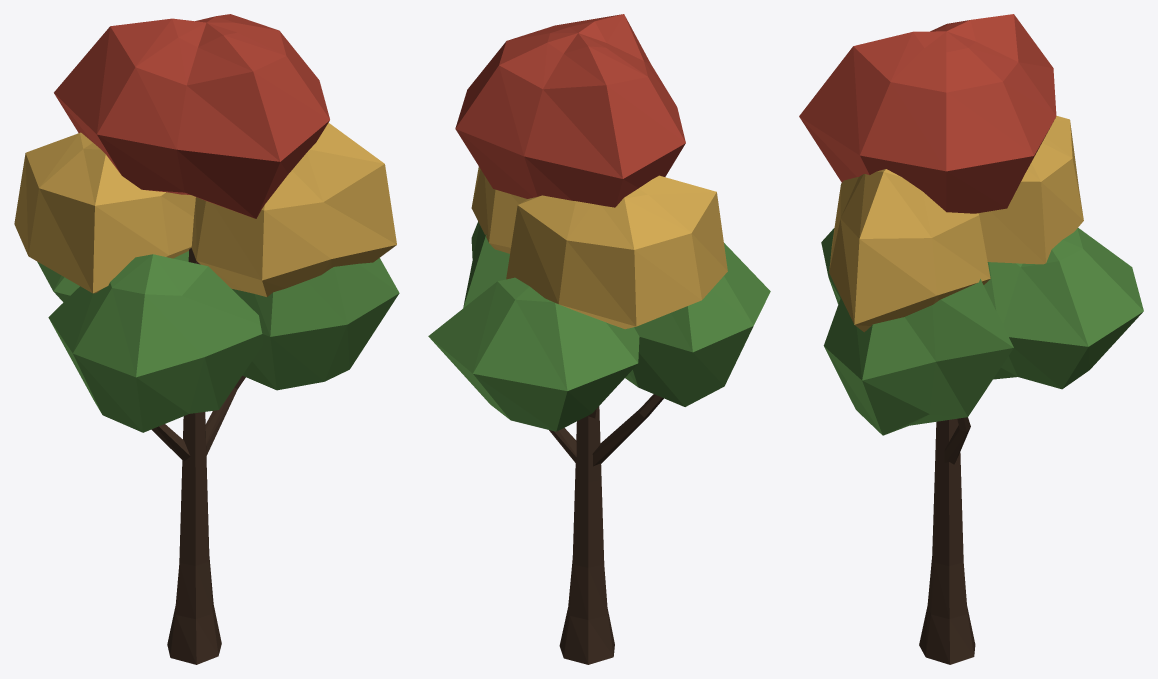
The model's file is maple-tree-65fa12.glb.
3 renders of one model, left to right at view 1: azimuth 30°, elevation 25°; view 2: azimuth 150°, elevation 25°; view 3: azimuth 270°, elevation 25°, orthographic.
Parts seen in each view (by area): view 1: maple-tree-mesh; view 2: maple-tree-mesh; view 3: maple-tree-mesh.
Boxes of the visible parts, x1=… form: maple-tree-mesh: x1=14, y1=14, x2=399, y2=664; maple-tree-mesh: x1=428, y1=14, x2=770, y2=664; maple-tree-mesh: x1=799, y1=14, x2=1143, y2=664.
Size of the model in its own units: 3.29 by 6.43 by 3.21.
